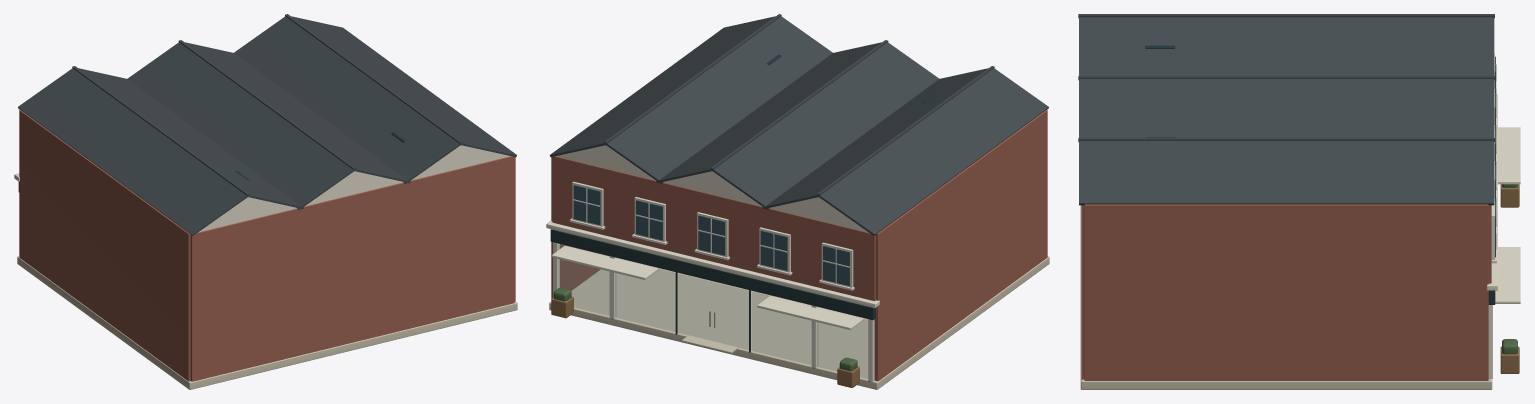
The model's file is marketHall.glb.
The picture shows the model from 3 angles, left to right: view 1: azimuth 30°, elevation 25°; view 2: azimuth 150°, elevation 25°; view 3: azimuth 270°, elevation 25°; orthographic projection. The views are drawn at different scales.
Visible parts, largest first — view 1: Terracotta brick, Slate roof, Limestone, Ivory trim; view 2: Slate roof, Terracotta brick, Limestone, Clear storefront glazing, Ivory trim, Dark metal, Window glass, Cedar timber; view 3: Slate roof, Terracotta brick, Limestone, Ivory trim, Cedar timber.
Part boxes in pixels (x1,y1,x2,y2): Terracotta brick: (19, 110, 515, 381); Slate roof: (18, 14, 516, 235); Limestone: (17, 256, 517, 389); Ivory trim: (14, 145, 510, 232); Slate roof: (549, 14, 1048, 235); Terracotta brick: (551, 110, 1047, 381); Limestone: (549, 256, 1049, 389); Clear storefront glazing: (559, 244, 867, 378); Ivory trim: (546, 145, 879, 381); Dark metal: (550, 54, 937, 381); Window glass: (573, 185, 849, 285); Cedar timber: (551, 296, 859, 387); Slate roof: (1078, 14, 1494, 205); Terracotta brick: (1081, 204, 1491, 380); Limestone: (1080, 205, 1492, 389); Ivory trim: (1486, 53, 1520, 378); Cedar timber: (1500, 184, 1519, 373).
Size of the model in its own units: 17.95 by 9.53 by 17.52.
